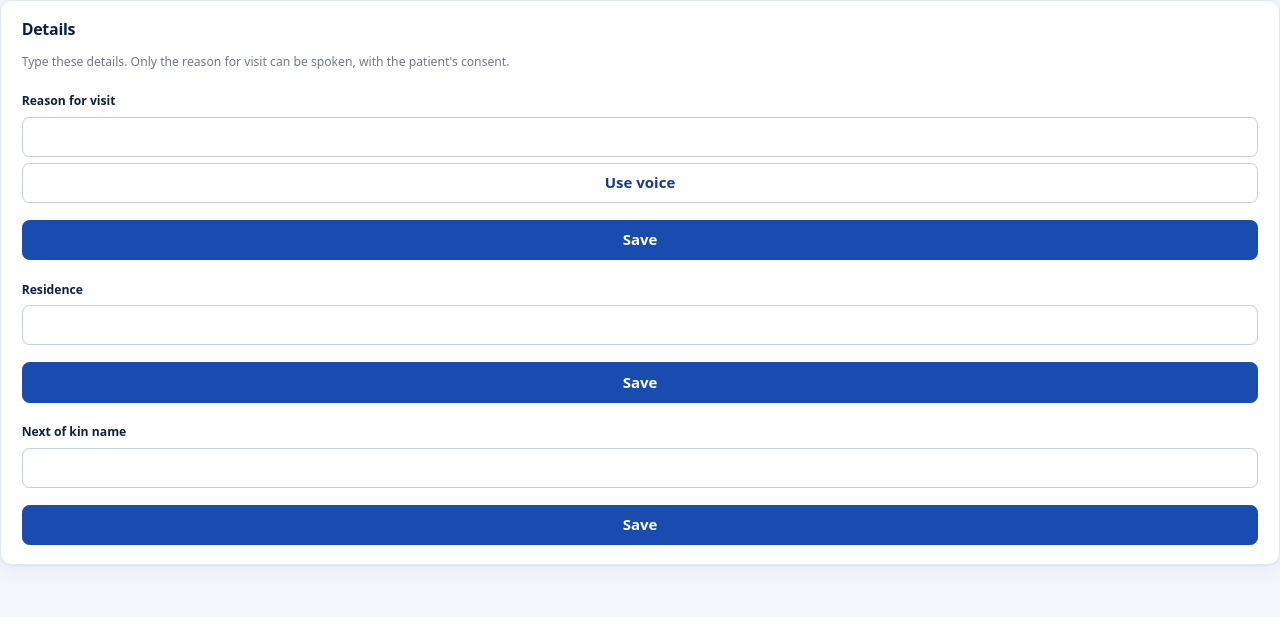
Test: VoiceFields › shows why a save was refused
Click the 1st button "Save" at {"x": 640, "y": 240}, box [22,220,1258,260]
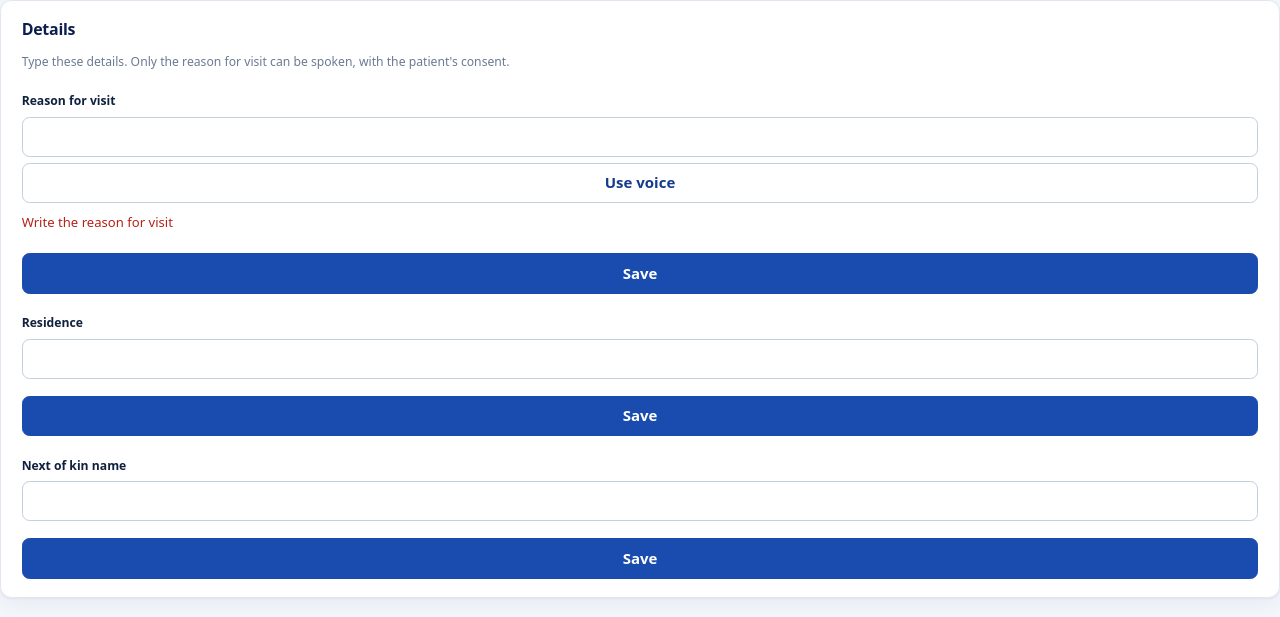
Result: the text "Write the reason for visit" is shown at [22,213,173,231]
